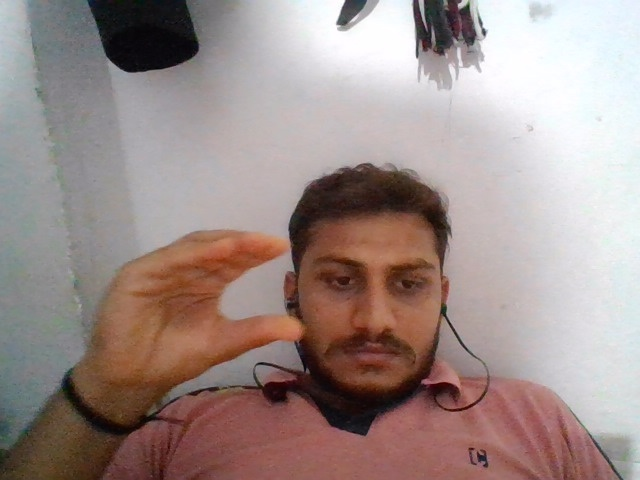No: (84, 212, 312, 411)
